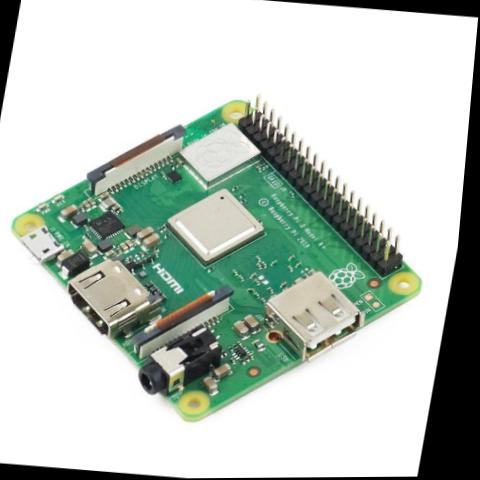Raspberry-Pi-3-Model-A-: (0, 70, 462, 445)
